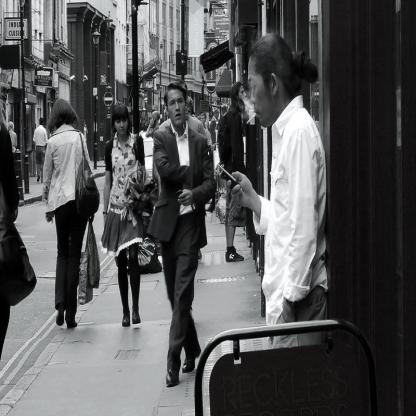smoking: (246, 112, 258, 124)
